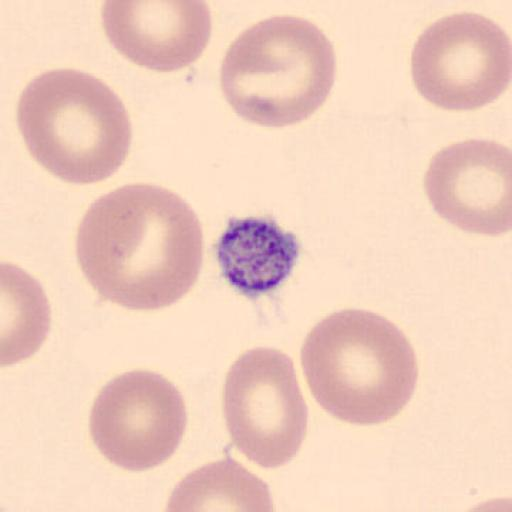Platelet: (210, 212, 304, 299)
RBC: (74, 180, 206, 314), (298, 305, 420, 428), (16, 65, 134, 187), (218, 12, 338, 130), (220, 343, 309, 472), (87, 366, 189, 472), (409, 11, 511, 113), (422, 136, 512, 238), (100, 1, 214, 74), (164, 457, 278, 512), (2, 260, 52, 369), (449, 493, 511, 512)
